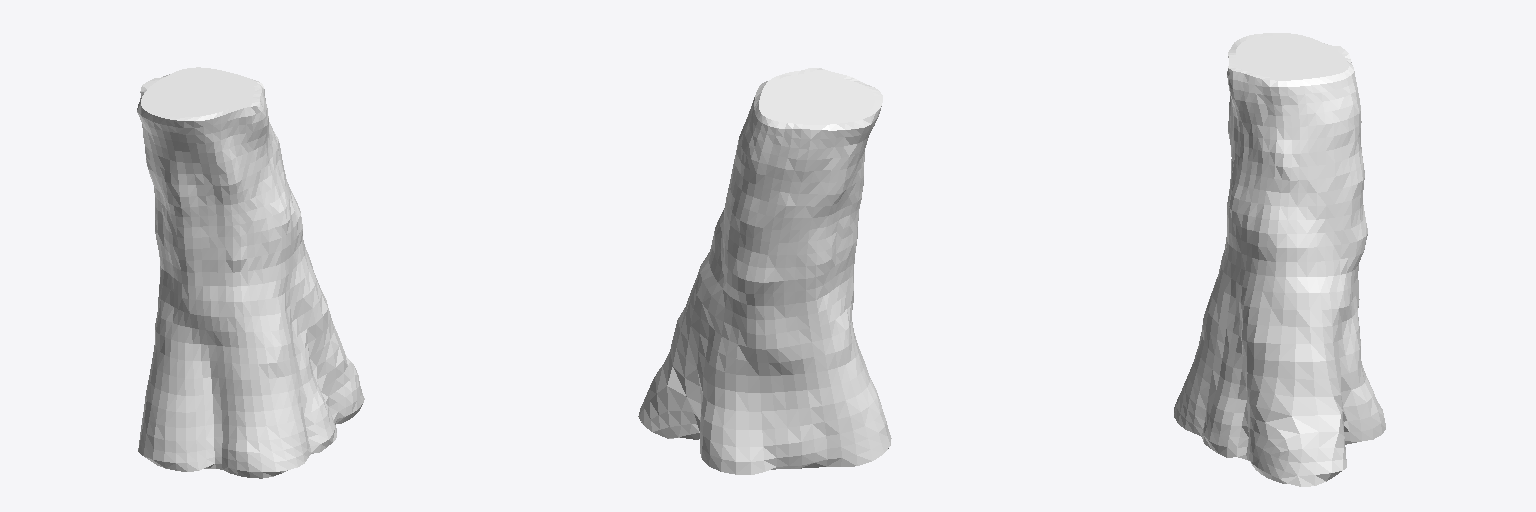
Rendered from Stump03.Obj.
3 views of the same model, side by side, from view 1: azimuth 30°, elevation 25°; view 2: azimuth 150°, elevation 25°; view 3: azimuth 270°, elevation 25° (orthographic).
Parts seen in each view (by area): view 1: Volume41; view 2: Volume41; view 3: Volume41.
Part boxes in pixels (x1,y1,x2,y2): Volume41: (137,67,364,478); Volume41: (638,68,891,474); Volume41: (1174,33,1385,486).
Size of the model in its own units: 171 by 250 by 137.